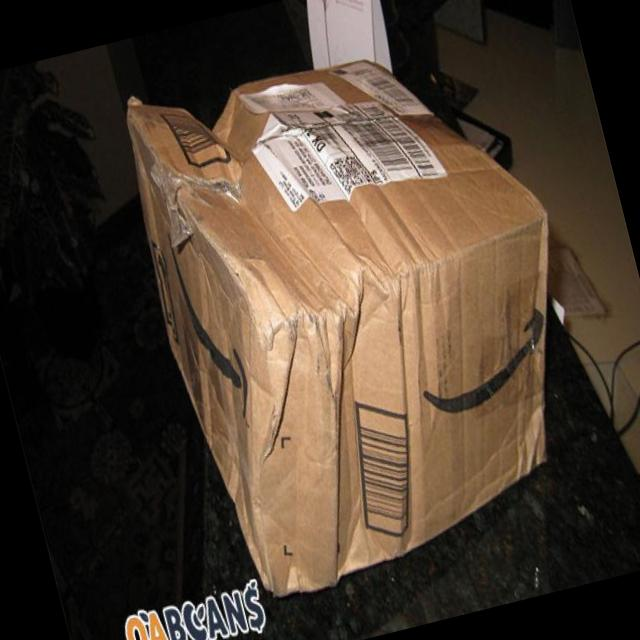box: (141, 441, 581, 640), (259, 101, 521, 385), (105, 384, 452, 525), (103, 145, 257, 381), (467, 272, 574, 465), (516, 363, 613, 474), (568, 282, 640, 329)
